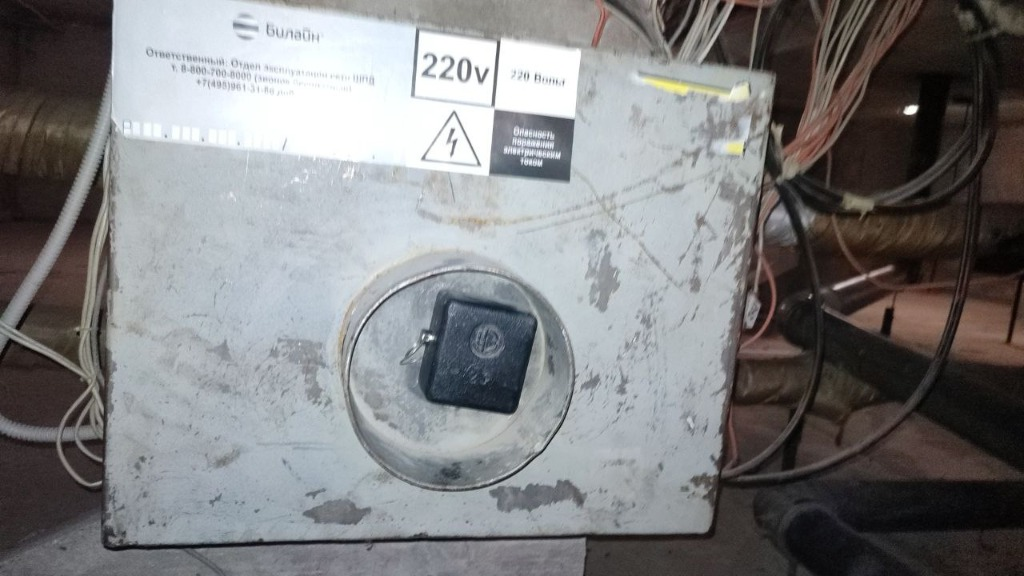shta-3: (97, 2, 784, 550)
